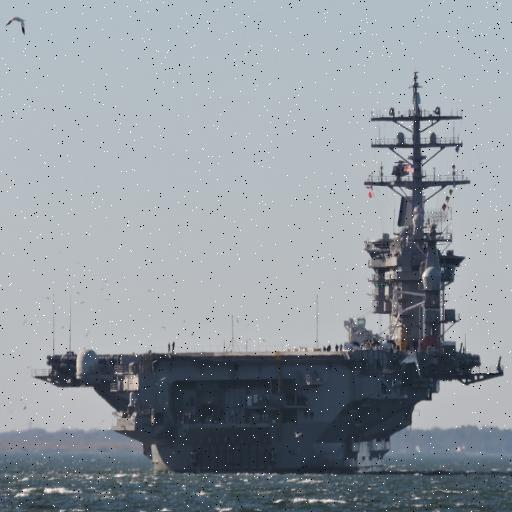Portanaves: (28, 66, 512, 477)
